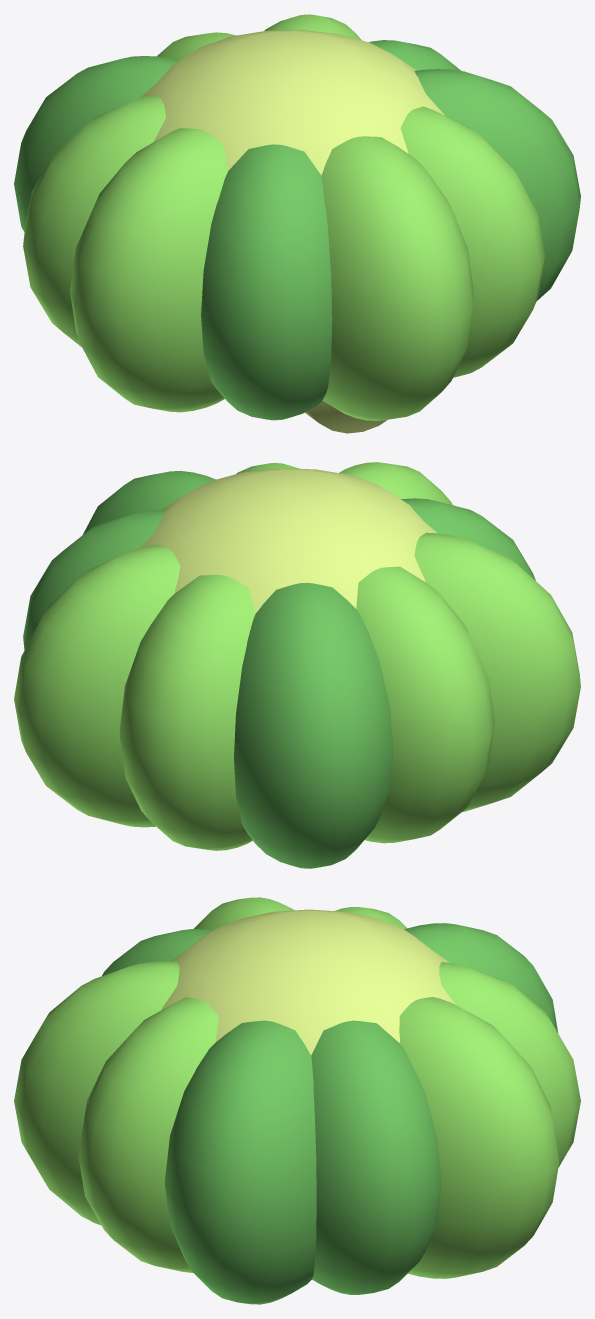
Rendered from LettuceRaw.fbx.
The picture shows the model from 3 angles, top to bottom: view 1: azimuth 30°, elevation 25°; view 2: azimuth 150°, elevation 25°; view 3: azimuth 270°, elevation 25°; orthographic projection.
Parts seen in each view (by area): view 1: MAT_Lettuce Geometry, MAT_LettuceDark Geometry, MAT_LettuceLight Geometry; view 2: MAT_Lettuce Geometry, MAT_LettuceDark Geometry, MAT_LettuceLight Geometry; view 3: MAT_Lettuce Geometry, MAT_LettuceDark Geometry, MAT_LettuceLight Geometry.
Part boxes in pixels (x1,y1,x2,y2): MAT_Lettuce Geometry: (23,14,544,421); MAT_LettuceDark Geometry: (14,40,580,420); MAT_LettuceLight Geometry: (140,30,444,433); MAT_Lettuce Geometry: (14,462,580,850); MAT_LettuceDark Geometry: (23,471,535,868); MAT_LettuceLight Geometry: (140,468,437,612); MAT_Lettuce Geometry: (14,897,580,1278); MAT_LettuceDark Geometry: (102,923,557,1304); MAT_LettuceLight Geometry: (161,909,455,1054).
Size of the model in its own units: 95.74 by 61 by 96.
